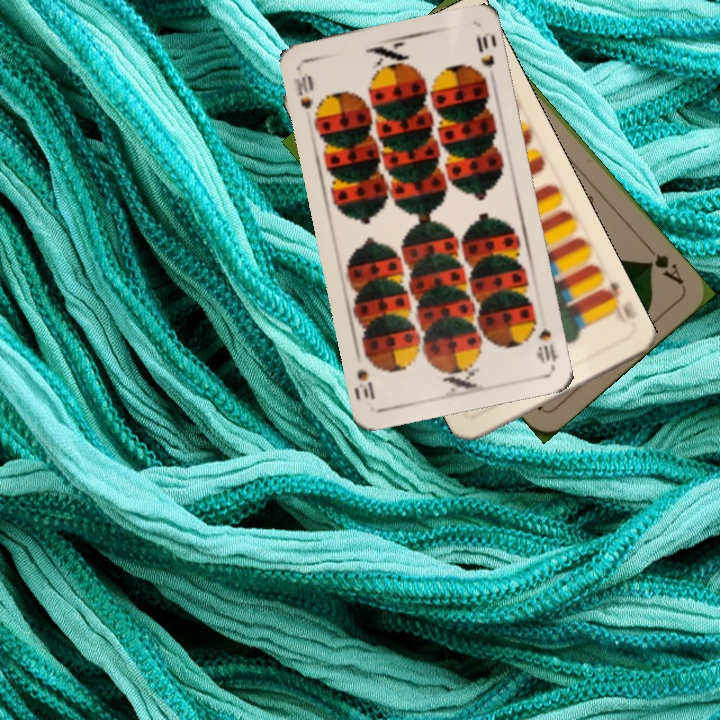E10: (596, 277, 639, 322)
GA: (642, 241, 686, 287)
S10: (533, 323, 561, 369), (289, 69, 317, 112)
